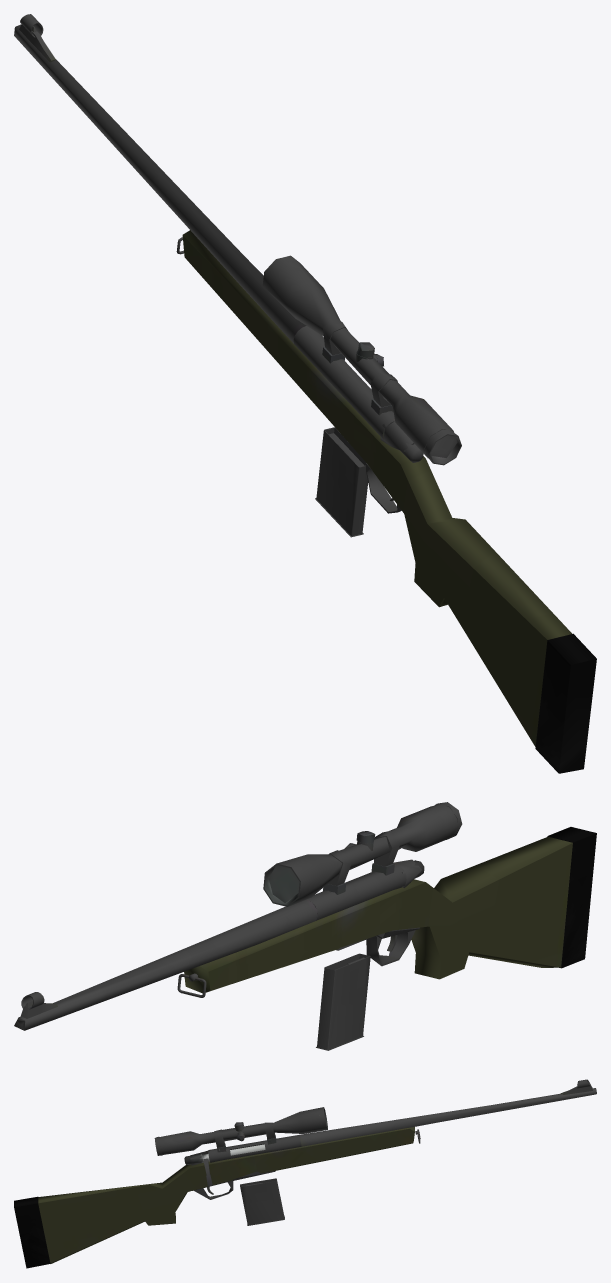
File: 016_Sniper_cc0_card.glb
3 renders of one model, top to bottom at view 1: azimuth 30°, elevation 25°; view 2: azimuth 150°, elevation 25°; view 3: azimuth 270°, elevation 25°, orthographic. The views are drawn at different scales.
Visible parts, largest first — view 1: Stock, Barrel, Scope, Magazine; view 2: Stock, Barrel, Scope, Magazine, IronSight; view 3: Stock, Barrel, Scope, Magazine, Bolt.
Part boxes in pixels (box(x1,y1,x2,y2)): Stock: box(182, 230, 596, 773); Barrel: box(14, 24, 414, 513); Scope: box(262, 255, 461, 465); Magazine: box(315, 427, 368, 537); Stock: box(184, 827, 596, 993); Barrel: box(14, 859, 421, 1030); Scope: box(263, 802, 462, 906); Magazine: box(316, 953, 370, 1050); IronSight: box(21, 992, 57, 1018); Stock: box(14, 1126, 414, 1268); Barrel: box(190, 1088, 596, 1199); Scope: box(154, 1107, 327, 1155); Magazine: box(240, 1178, 284, 1225); Bolt: box(184, 1144, 265, 1186).
Bounding box in the file's own units: 0.0568 × 0.3933 × 1.12.
Materials: 1 (1 with a texture image).
